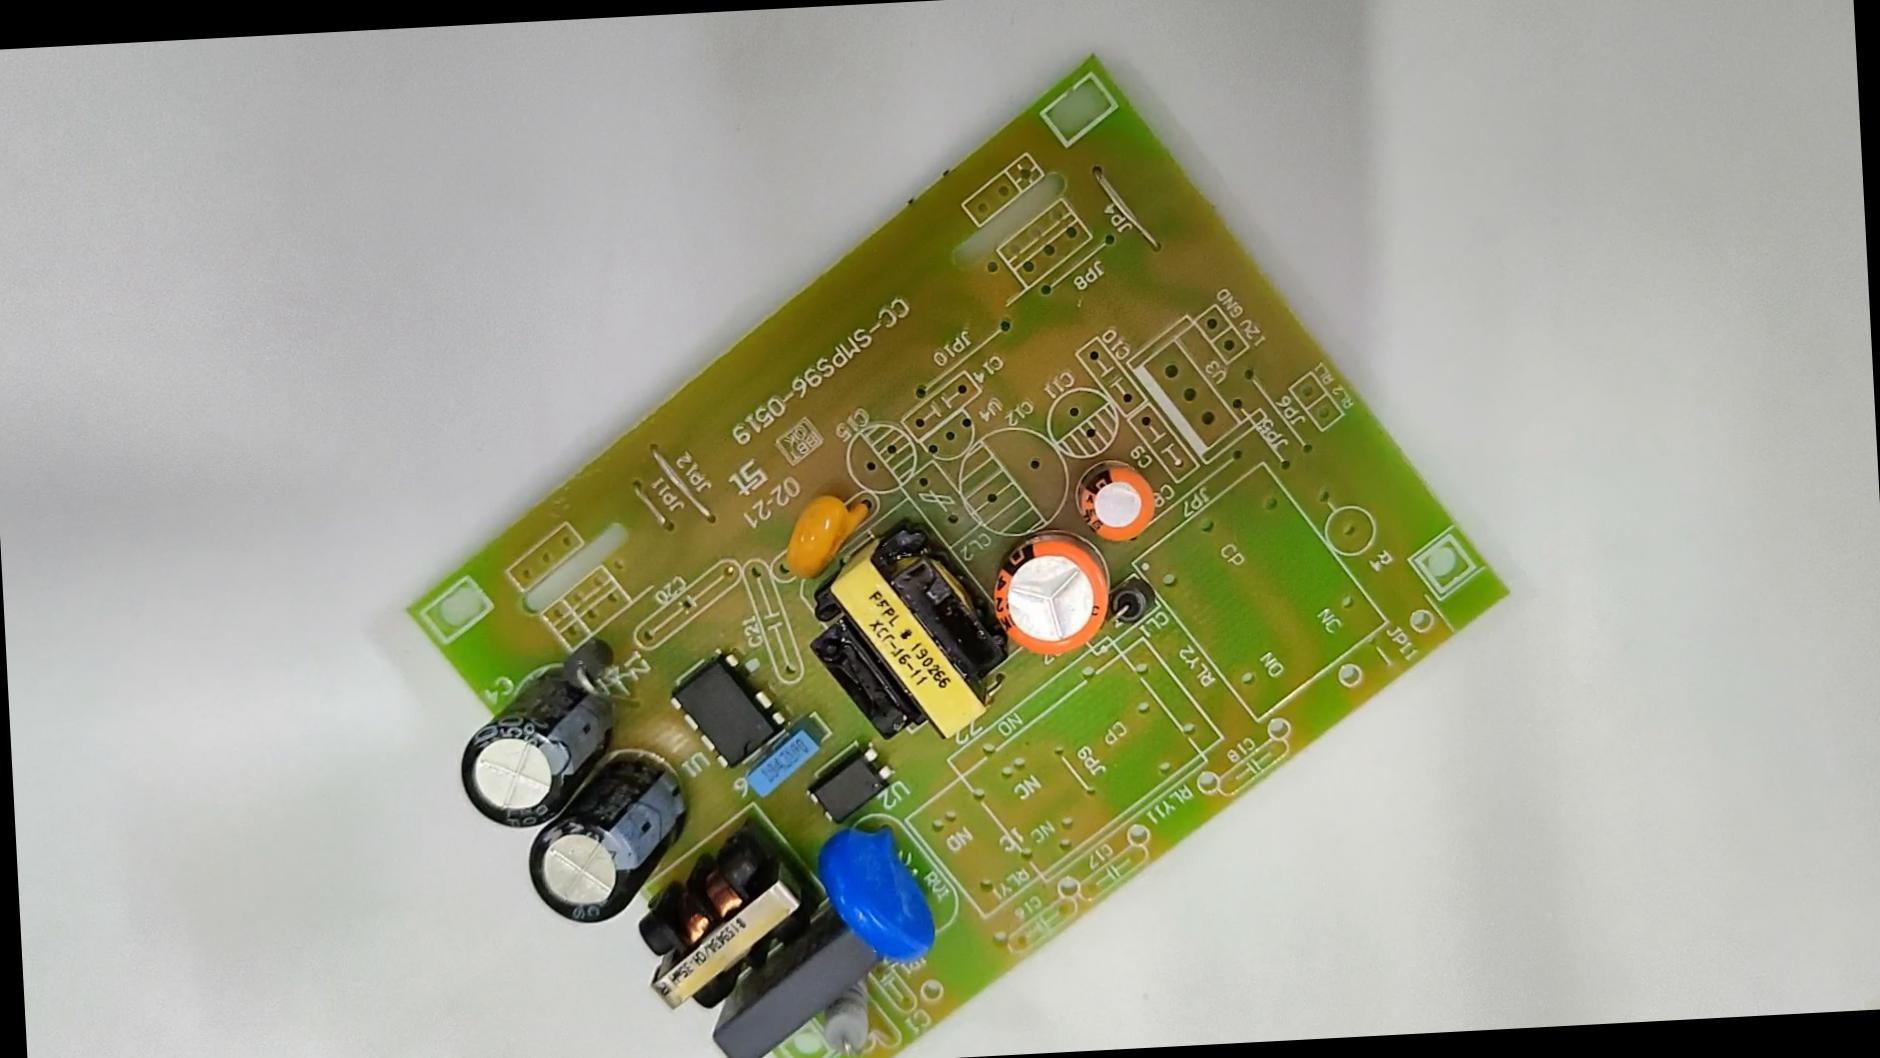Cap1: (984, 522, 1114, 667)
Cap2: (1074, 452, 1163, 549)
Cap3: (510, 745, 706, 933)
Cap4: (445, 652, 626, 835)
MOSFET: (662, 642, 794, 776)
Mov: (811, 810, 944, 973)
Resistor: (816, 982, 879, 1057)
Transformer: (795, 510, 1011, 748), (622, 833, 832, 1023)
